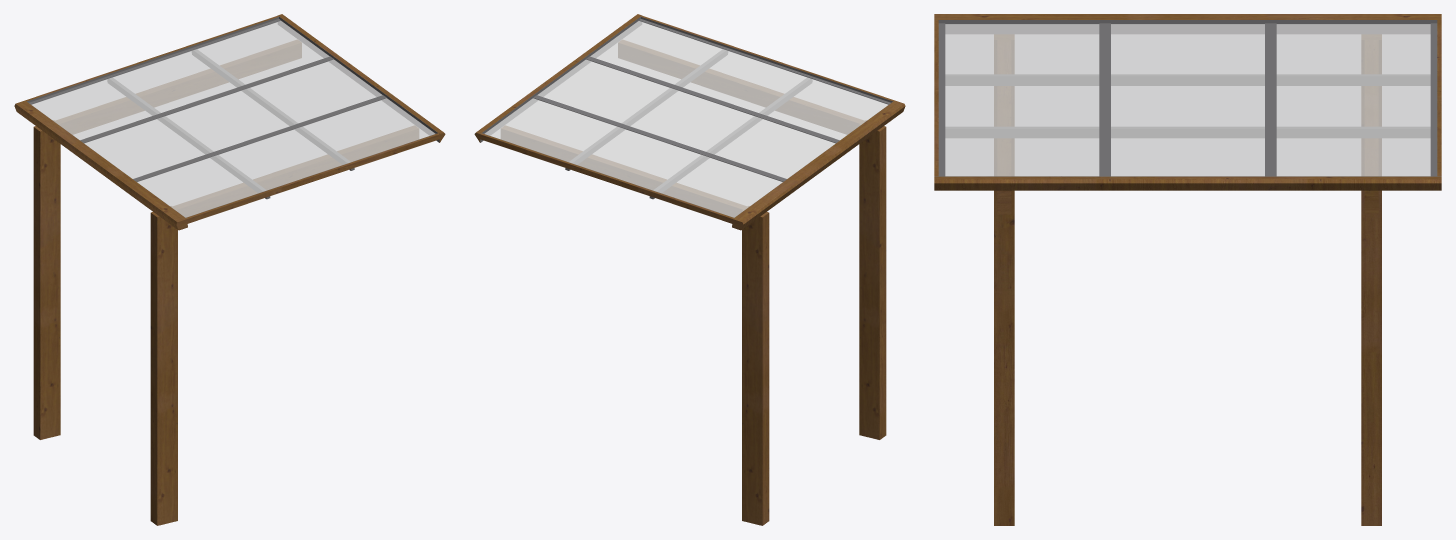
File: 2121-22_naturalpine.fbx
3 renders of one model, left to right at view 1: azimuth 30°, elevation 25°; view 2: azimuth 150°, elevation 25°; view 3: azimuth 270°, elevation 25°, orthographic. The views are drawn at different scales.
Parts seen in each view (by area): view 1: 2121-22naturalpine; view 2: 2121-22naturalpine; view 3: 2121-22naturalpine.
Boxes of the visible parts, x1,y1,x2,y2 form: 2121-22naturalpine: (14,14,445,525); 2121-22naturalpine: (474,14,905,525); 2121-22naturalpine: (934,14,1441,525).
Bounding box in the file's own units: 210 × 255 × 219.
Materials: 4 (2 with a texture image).
